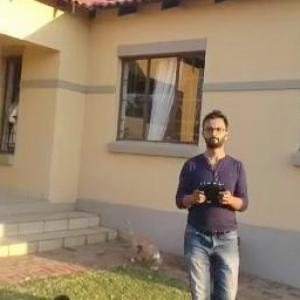follow: (165, 104, 253, 299)
null: (118, 214, 166, 274), (38, 287, 76, 299)
